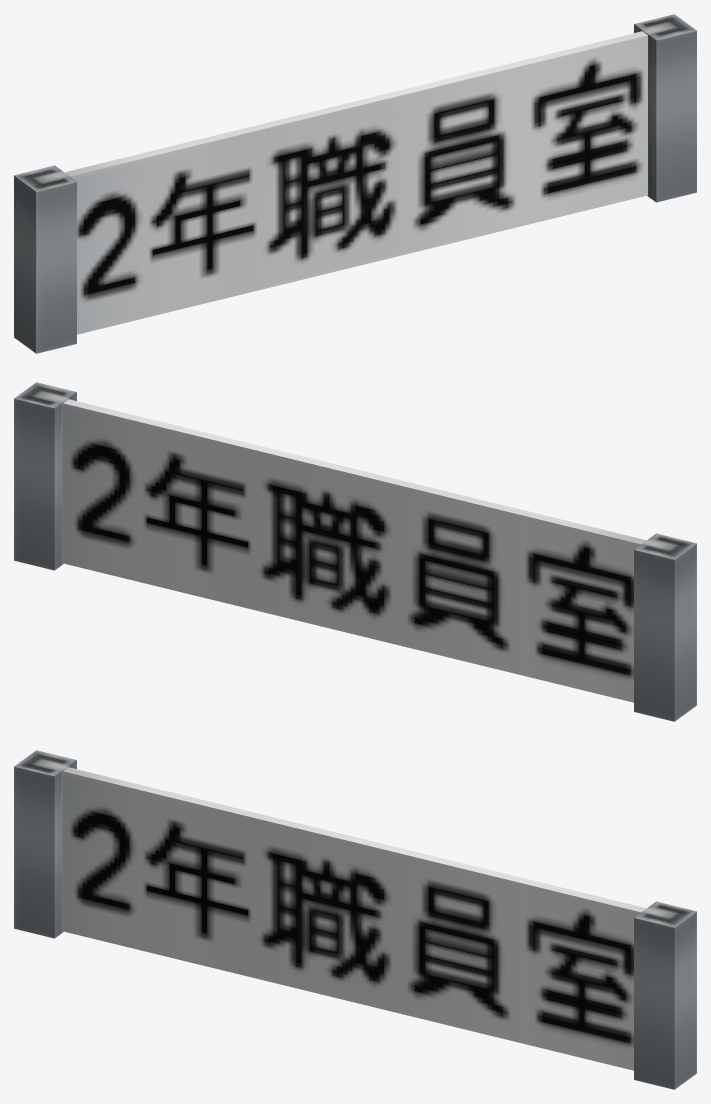
File: SHW_NamePlate_01_02_Teachers_room02.fbx
3 renders of one model, top to bottom at view 1: azimuth 30°, elevation 25°; view 2: azimuth 150°, elevation 25°; view 3: azimuth 330°, elevation 25°, orthographic.
Visible parts, largest first — view 1: shw_nameplate_01_02_teachers_room02; view 2: shw_nameplate_01_02_teachers_room02; view 3: shw_nameplate_01_02_teachers_room02.
Boxes of the visible parts, x1,y1,x2,y2 form: shw_nameplate_01_02_teachers_room02: (14,14,696,353); shw_nameplate_01_02_teachers_room02: (14,382,696,721); shw_nameplate_01_02_teachers_room02: (14,750,696,1089).
Bounding box in the file's own units: 34.1 × 8 × 2.
